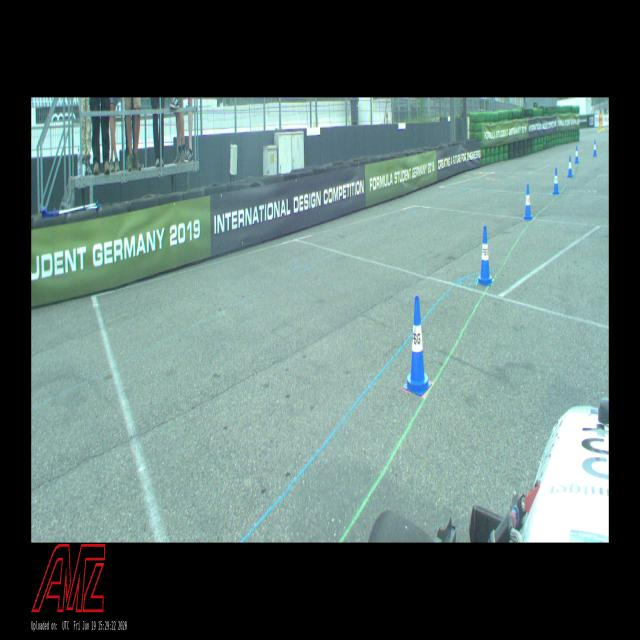blue_cone: (404, 296, 432, 395), (478, 226, 492, 285), (524, 185, 532, 220), (553, 168, 559, 194), (574, 146, 579, 164), (568, 156, 572, 177), (593, 140, 597, 156)
